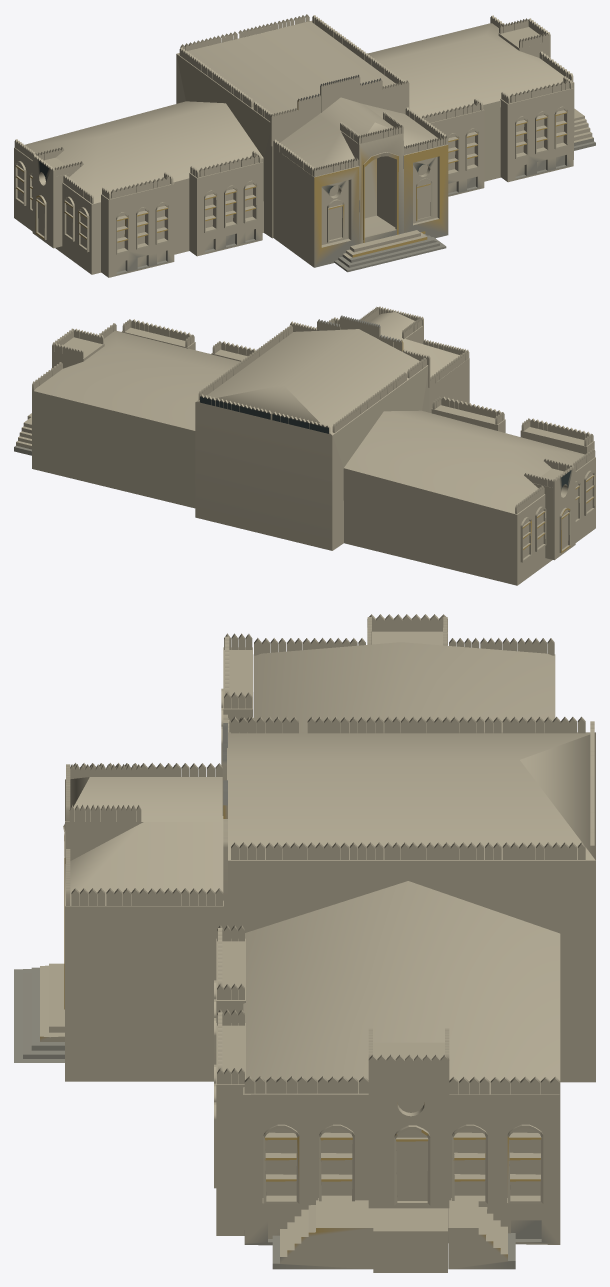
3 views of the same model, one above another, from view 1: azimuth 30°, elevation 25°; view 2: azimuth 150°, elevation 25°; view 3: azimuth 270°, elevation 25° (orthographic). The views are drawn at different scales.
Parts seen in each view (by area): view 1: polySurface4:PIV; view 2: polySurface4:PIV; view 3: polySurface4:PIV.
Part boxes in pixels (x1,y1,x2,y2): polySurface4:PIV: (14, 14, 595, 277); polySurface4:PIV: (14, 306, 595, 585); polySurface4:PIV: (14, 614, 595, 1272).
Size of the model in its own units: 84.72 by 22.05 by 42.06.
